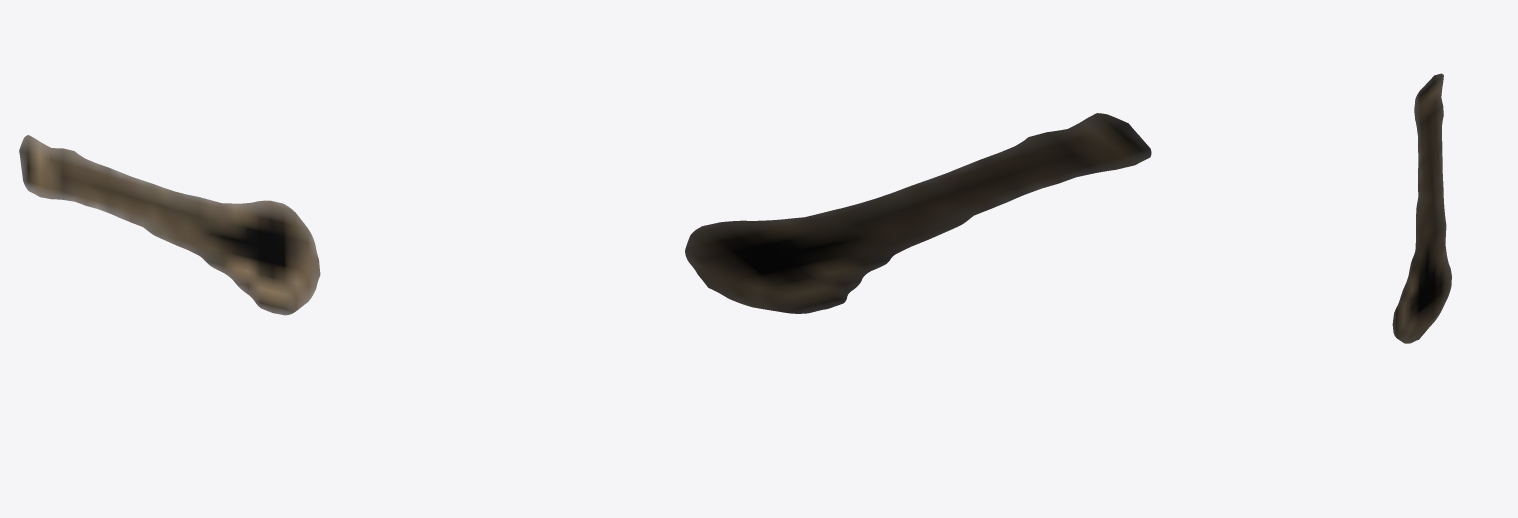
File: noch_Colar kaaj_wide.glb
3 renders of one model, left to right at view 1: azimuth 30°, elevation 25°; view 2: azimuth 150°, elevation 25°; view 3: azimuth 270°, elevation 25°, orthographic. The views are drawn at different scales.
Visible parts, largest first — view 1: noch_kaaj_wide1; view 2: noch_kaaj_wide1; view 3: noch_kaaj_wide1.
Boxes of the visible parts, bbox=[...] form: noch_kaaj_wide1: bbox=[19, 135, 320, 315]; noch_kaaj_wide1: bbox=[685, 113, 1151, 313]; noch_kaaj_wide1: bbox=[1392, 73, 1451, 343].
Bounding box in the file's own units: 0.00373 × 0.00351 × 0.00147.
Materials: 1 (1 with a texture image).
